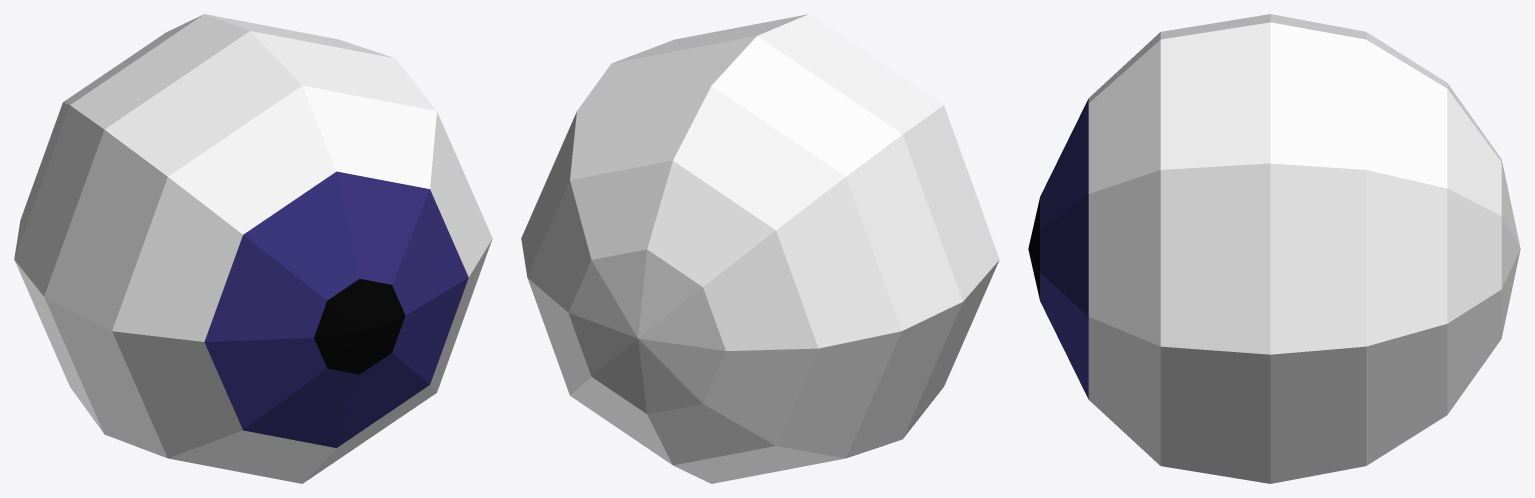
The model's file is EyeL.fbx.
3 renders of one model, left to right at view 1: azimuth 30°, elevation 25°; view 2: azimuth 150°, elevation 25°; view 3: azimuth 270°, elevation 25°, orthographic. The views are drawn at different scales.
Visible parts, largest first — view 1: Eye; view 2: Eye; view 3: Eye.
Part boxes in pixels (x1,y1,x2,y2): Eye: (14,14,492,483); Eye: (521,14,999,483); Eye: (1028,14,1520,483).
Size of the model in its own units: 200 by 200 by 197.
